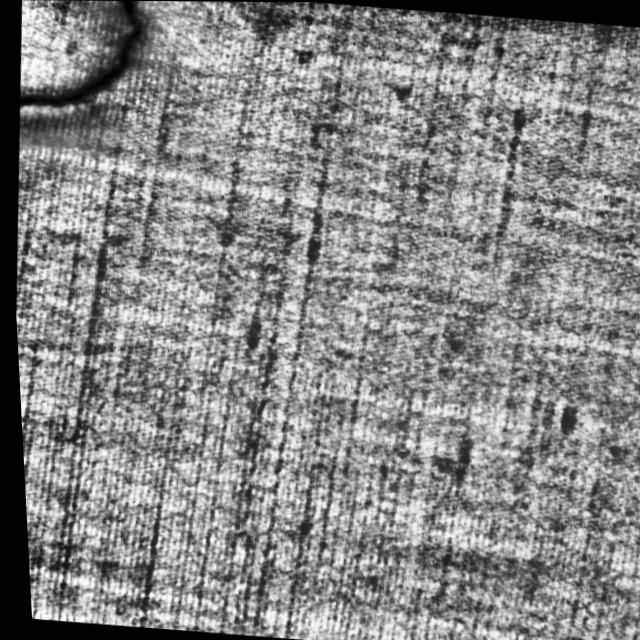Stitch: (13, 0, 166, 129)
